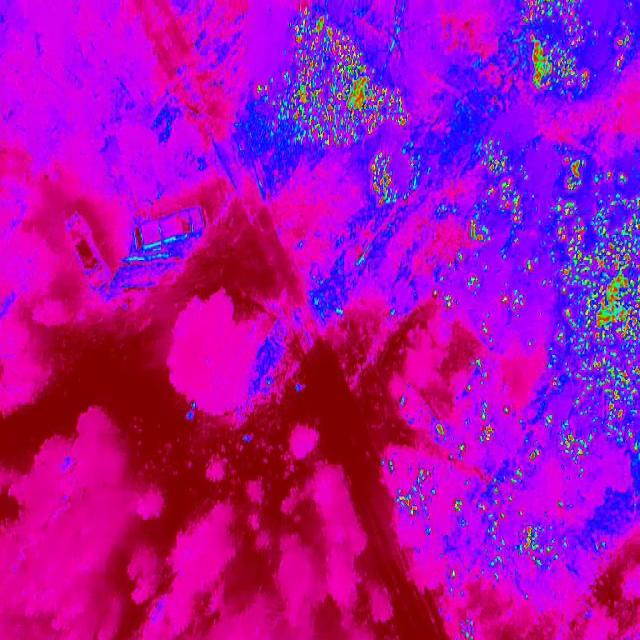fire: (542, 151, 640, 471), (276, 11, 415, 150), (516, 0, 598, 98), (468, 139, 526, 250), (393, 462, 449, 524), (514, 522, 573, 574), (370, 152, 420, 207), (484, 506, 510, 579), (612, 20, 634, 78), (503, 284, 526, 324), (478, 401, 498, 447), (470, 357, 490, 388), (439, 288, 458, 314), (468, 271, 482, 297), (528, 440, 542, 464), (454, 497, 464, 512)
